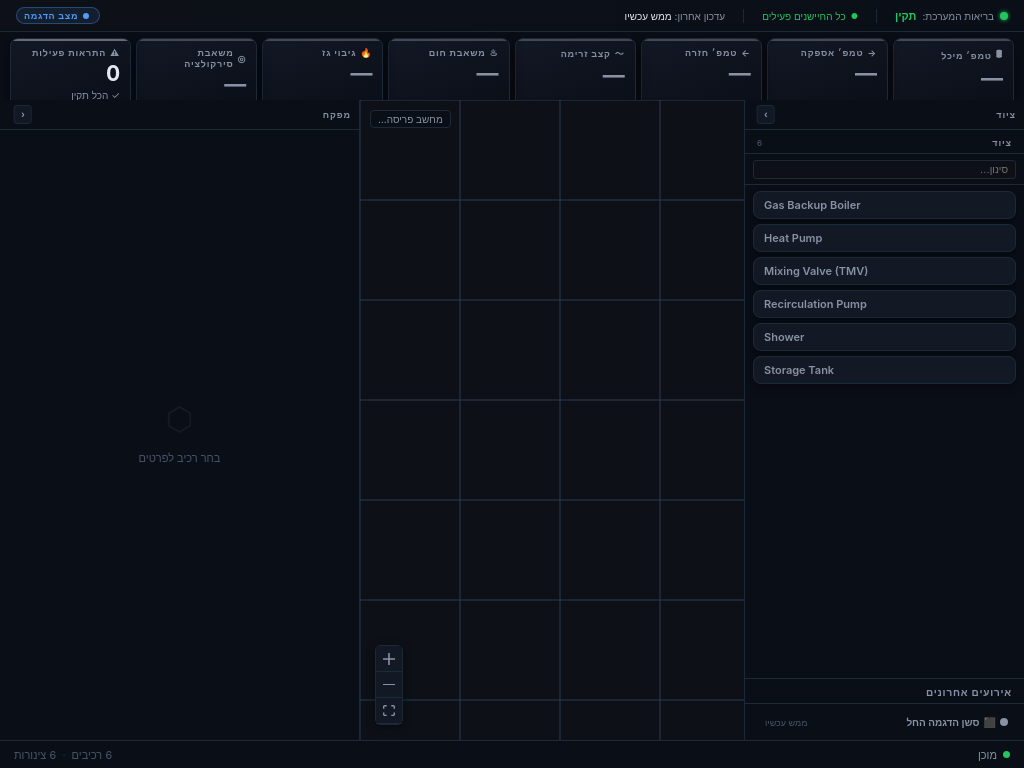
Test: MissionControlView › collapses right inspector when inspector-right-toggle is clicked
Click the button with test id "inspector-right-toggle": [23, 114] box [14,105,32,124]
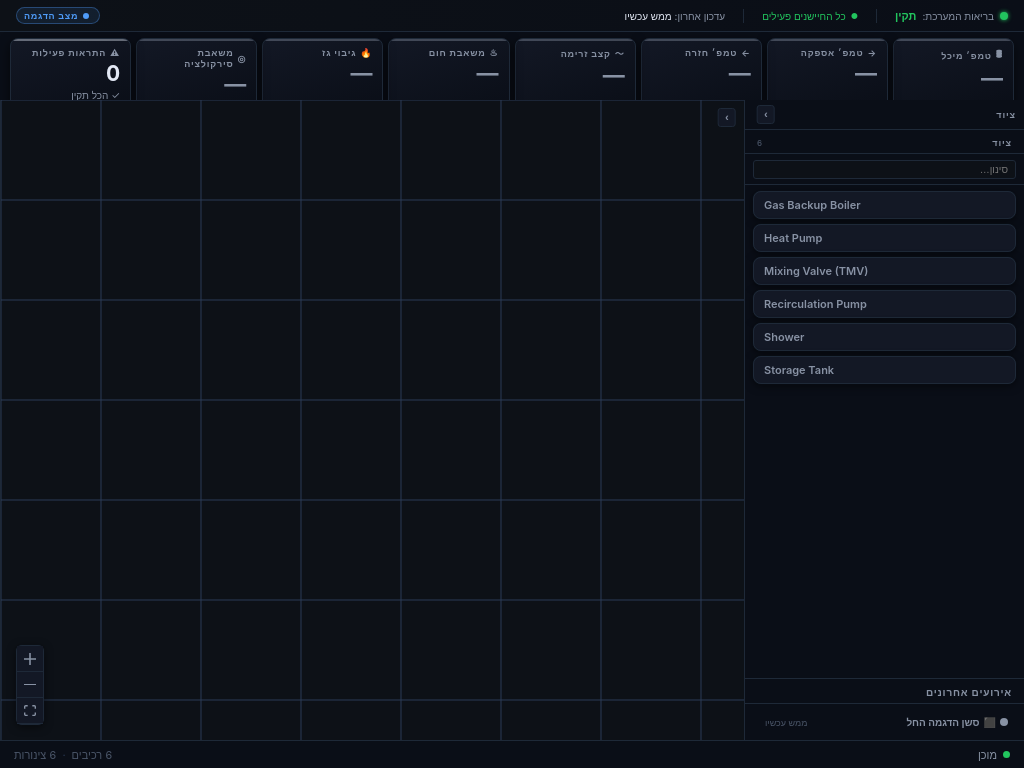
Result: the button with test id "inspector-right-expand" is shown at [718,108,736,127]
